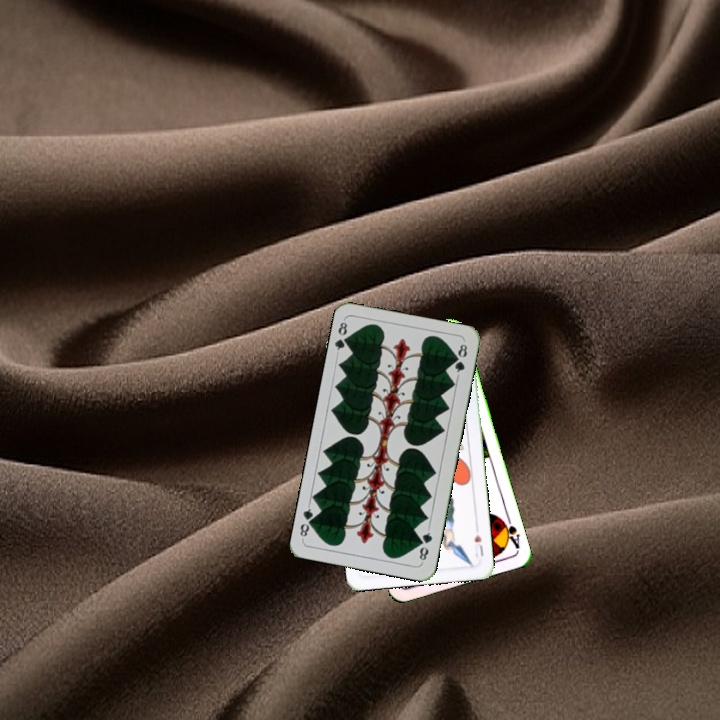G8: (331, 316, 353, 357), (415, 525, 435, 565)
HU: (470, 530, 486, 560)
SA: (496, 512, 522, 551)
